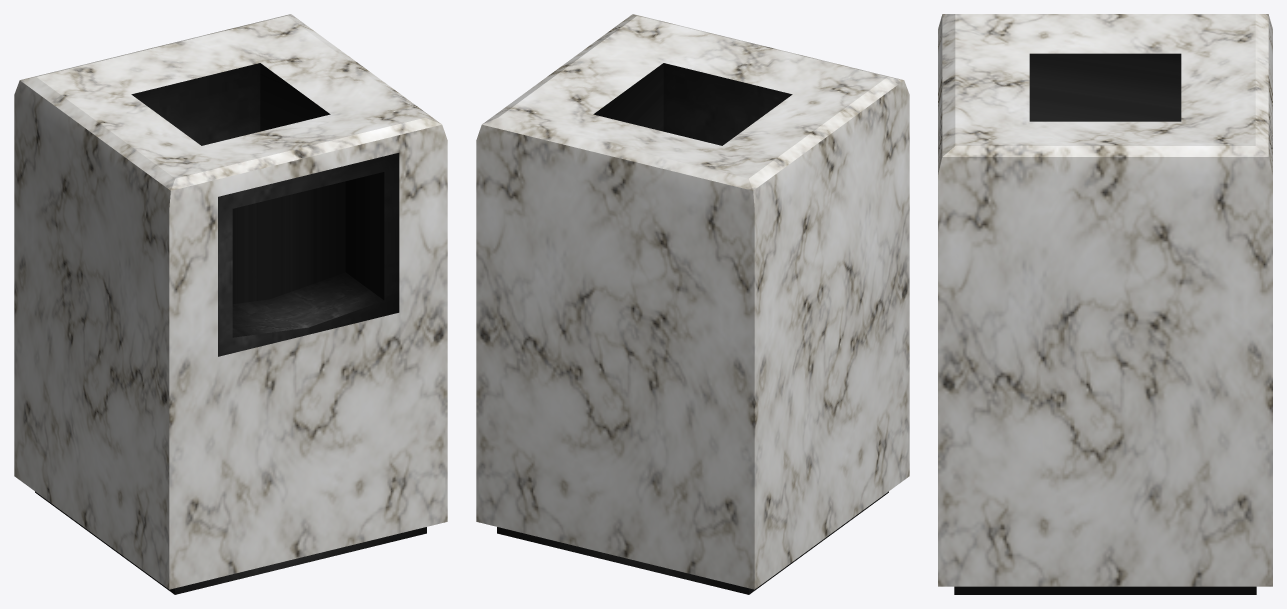
File: Trashcan3.FBX
3 renders of one model, left to right at view 1: azimuth 30°, elevation 25°; view 2: azimuth 150°, elevation 25°; view 3: azimuth 270°, elevation 25°, orthographic. The views are drawn at different scales.
Visible parts, largest first — view 1: Trashcan1; view 2: Trashcan1; view 3: Trashcan1.
Part boxes in pixels (bbox=[...]): Trashcan1: bbox=[14, 14, 447, 594]; Trashcan1: bbox=[476, 14, 909, 594]; Trashcan1: bbox=[938, 14, 1272, 594].
Size of the model in its own units: 27.74 by 39.59 by 26.78.
